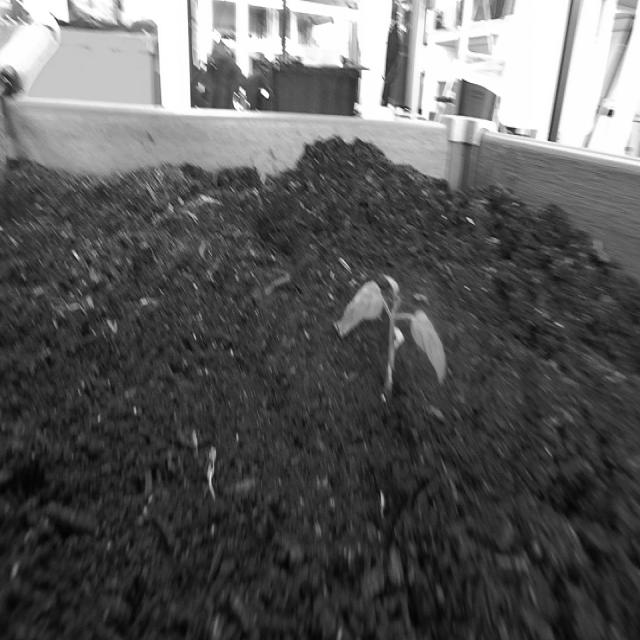Healthy: (332, 263, 450, 400)
